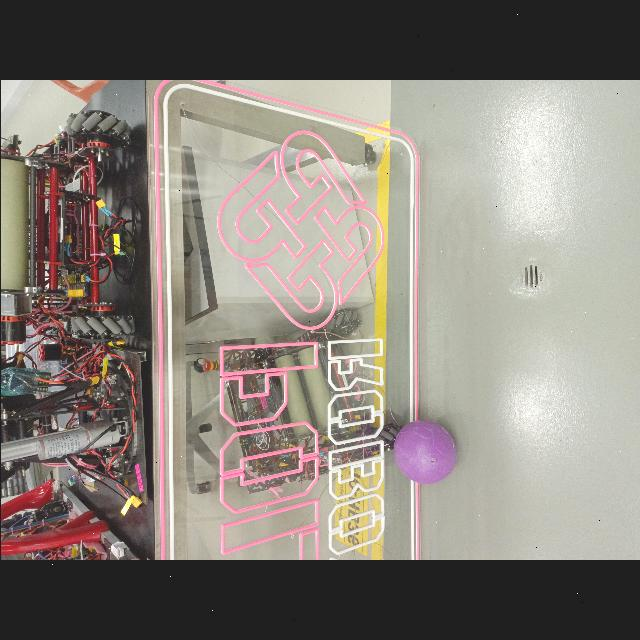P: (394, 414, 454, 484)
